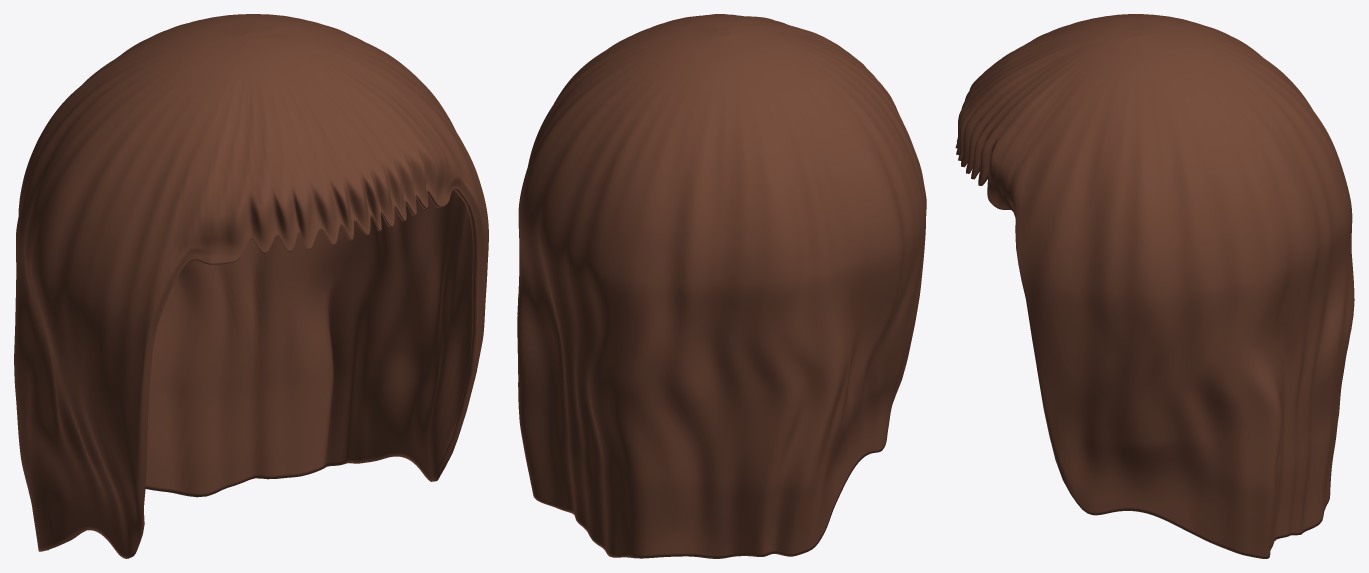
File: layered.glb
The picture shows the model from 3 angles, left to right: view 1: azimuth 30°, elevation 25°; view 2: azimuth 150°, elevation 25°; view 3: azimuth 270°, elevation 25°; orthographic projection. The views are drawn at different scales.
Visible parts, largest first — view 1: Hair / layered fringe; view 2: Hair / layered fringe; view 3: Hair / layered fringe.
Part boxes in pixels (x1,y1,x2,y2): Hair / layered fringe: [14, 14, 488, 558]; Hair / layered fringe: [517, 14, 926, 558]; Hair / layered fringe: [955, 14, 1354, 558].
Size of the model in its own units: 0.8474 by 1.05 by 0.7933.
